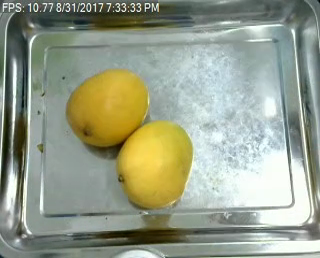Mango: (66, 69, 149, 147), (117, 120, 192, 205)
